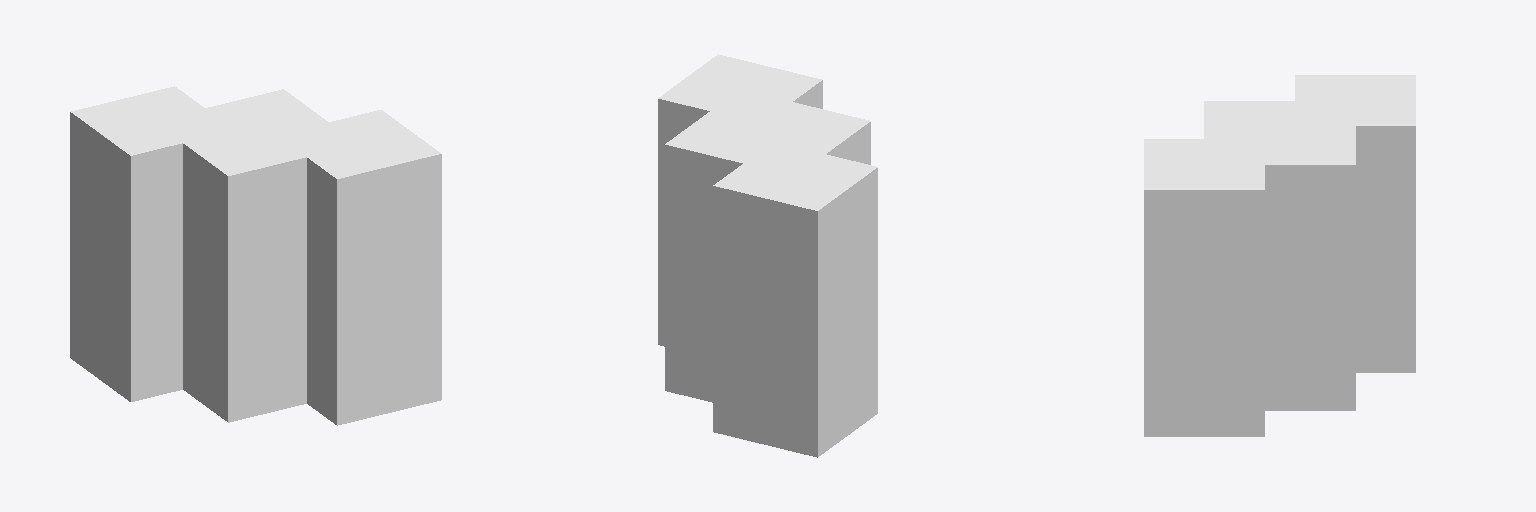
File: StoneCannon-4-BlueKey.obj
3 views of the same model, side by side, from view 1: azimuth 30°, elevation 25°; view 2: azimuth 150°, elevation 25°; view 3: azimuth 270°, elevation 25° (orthographic).
Visible parts, largest first — view 1: BlueKey; view 2: BlueKey; view 3: BlueKey.
Part boxes in pixels (bbox=[...]): BlueKey: bbox=[70, 86, 441, 425]; BlueKey: bbox=[658, 54, 877, 457]; BlueKey: bbox=[1144, 75, 1415, 436].
Size of the model in its own units: 0.9 by 0.9 by 0.9.